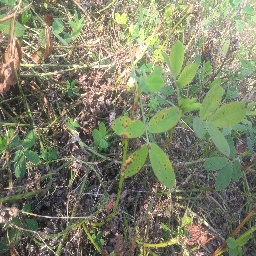GroundNut_Leaf: (150, 140, 176, 191), (202, 161, 240, 190), (120, 144, 147, 178), (110, 115, 148, 138), (210, 102, 248, 125), (149, 107, 182, 133), (205, 128, 231, 157), (143, 65, 163, 95), (92, 121, 108, 152), (178, 63, 200, 85), (203, 78, 222, 101), (169, 38, 184, 63), (13, 153, 25, 180)
